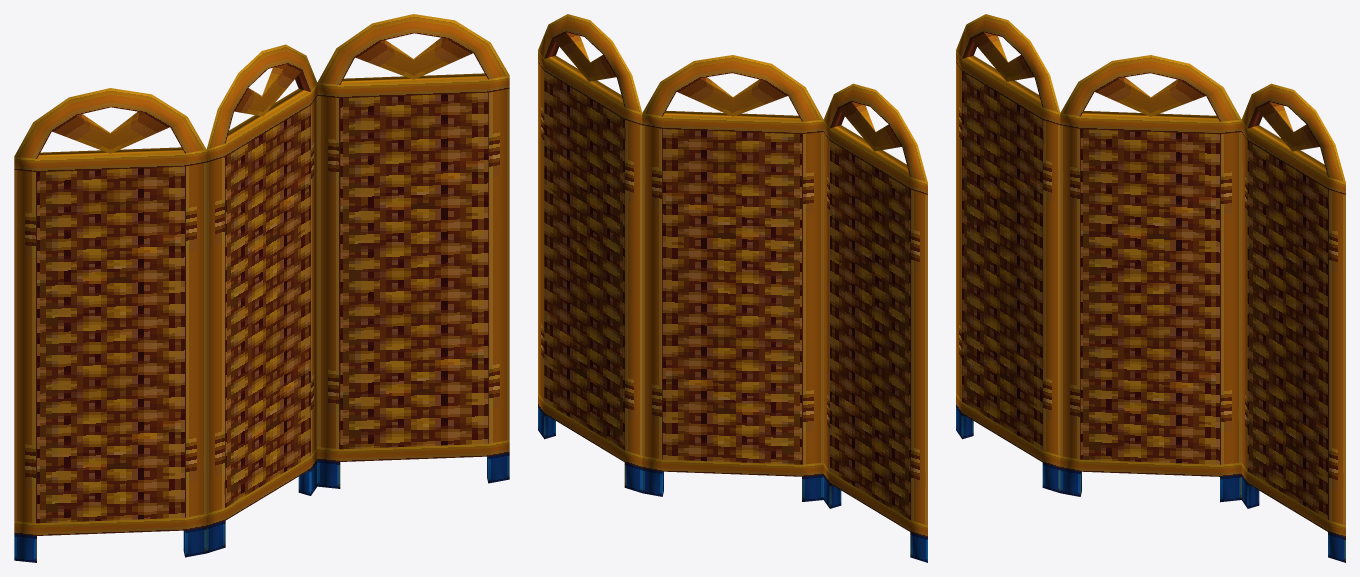
The model's file is rmk_rst_screen_mtl.dae.
3 renders of one model, left to right at view 1: azimuth 30°, elevation 25°; view 2: azimuth 150°, elevation 25°; view 3: azimuth 330°, elevation 25°, orthographic. The views are drawn at different scales.
Parts seen in each view (by area): view 1: rmk_rst_screen_mtl; view 2: rmk_rst_screen_mtl; view 3: rmk_rst_screen_mtl.
Boxes of the visible parts, x1=… form: rmk_rst_screen_mtl: x1=14, y1=14, x2=509, y2=562; rmk_rst_screen_mtl: x1=538, y1=14, x2=927, y2=562; rmk_rst_screen_mtl: x1=956, y1=14, x2=1345, y2=562.
Bounding box in the file's own units: 56.55 × 55.74 × 8.79.
1 material, 1 textured.
